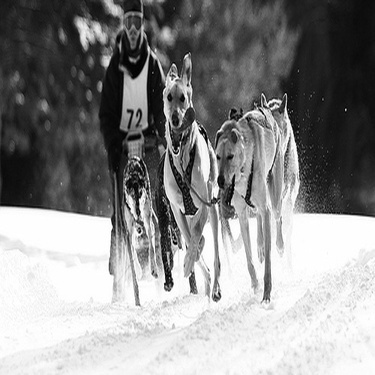dog: (130, 43, 229, 309), (180, 91, 292, 319), (117, 146, 206, 311), (92, 141, 165, 327), (243, 81, 312, 267), (215, 82, 265, 263)
